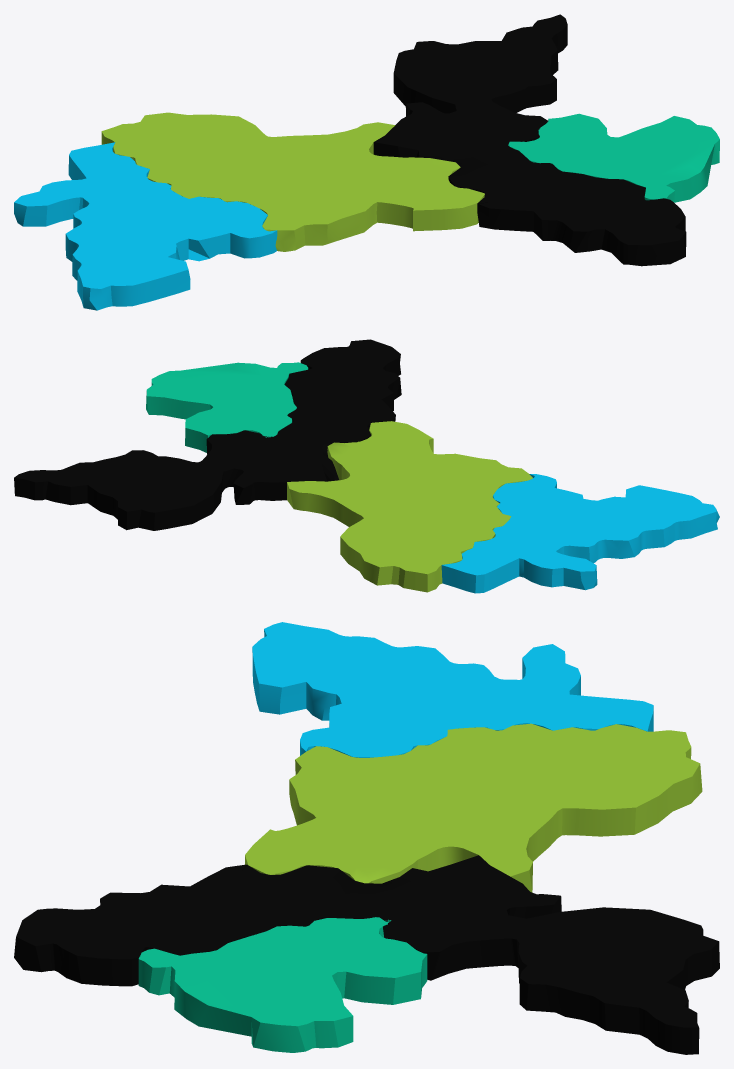
The model's file is Island04.fbx.
3 renders of one model, top to bottom at view 1: azimuth 30°, elevation 25°; view 2: azimuth 150°, elevation 25°; view 3: azimuth 270°, elevation 25°, orthographic. The views are drawn at different scales.
Visible parts, largest first — view 1: Retopo_Curve.003, Retopo_Curve, Retopo_Curve.001, Retopo_Curve.002; view 2: Retopo_Curve.003, Retopo_Curve, Retopo_Curve.001, Retopo_Curve.002; view 3: Retopo_Curve.003, Retopo_Curve, Retopo_Curve.001, Retopo_Curve.002.
Part boxes in pixels (x1,y1,x2,y2): Retopo_Curve.003: (373, 14, 686, 266); Retopo_Curve: (101, 112, 484, 251); Retopo_Curve.001: (14, 142, 277, 310); Retopo_Curve.002: (508, 113, 719, 202); Retopo_Curve.003: (14, 339, 401, 530); Retopo_Curve: (287, 421, 532, 592); Retopo_Curve.001: (441, 474, 719, 593); Retopo_Curve.002: (146, 362, 308, 452); Retopo_Curve.003: (14, 855, 719, 1054); Retopo_Curve: (245, 723, 702, 892); Retopo_Curve.001: (252, 622, 653, 757); Retopo_Curve.002: (138, 917, 427, 1052).
Bounding box in the file's own units: 32.31 × 1 × 23.73.
